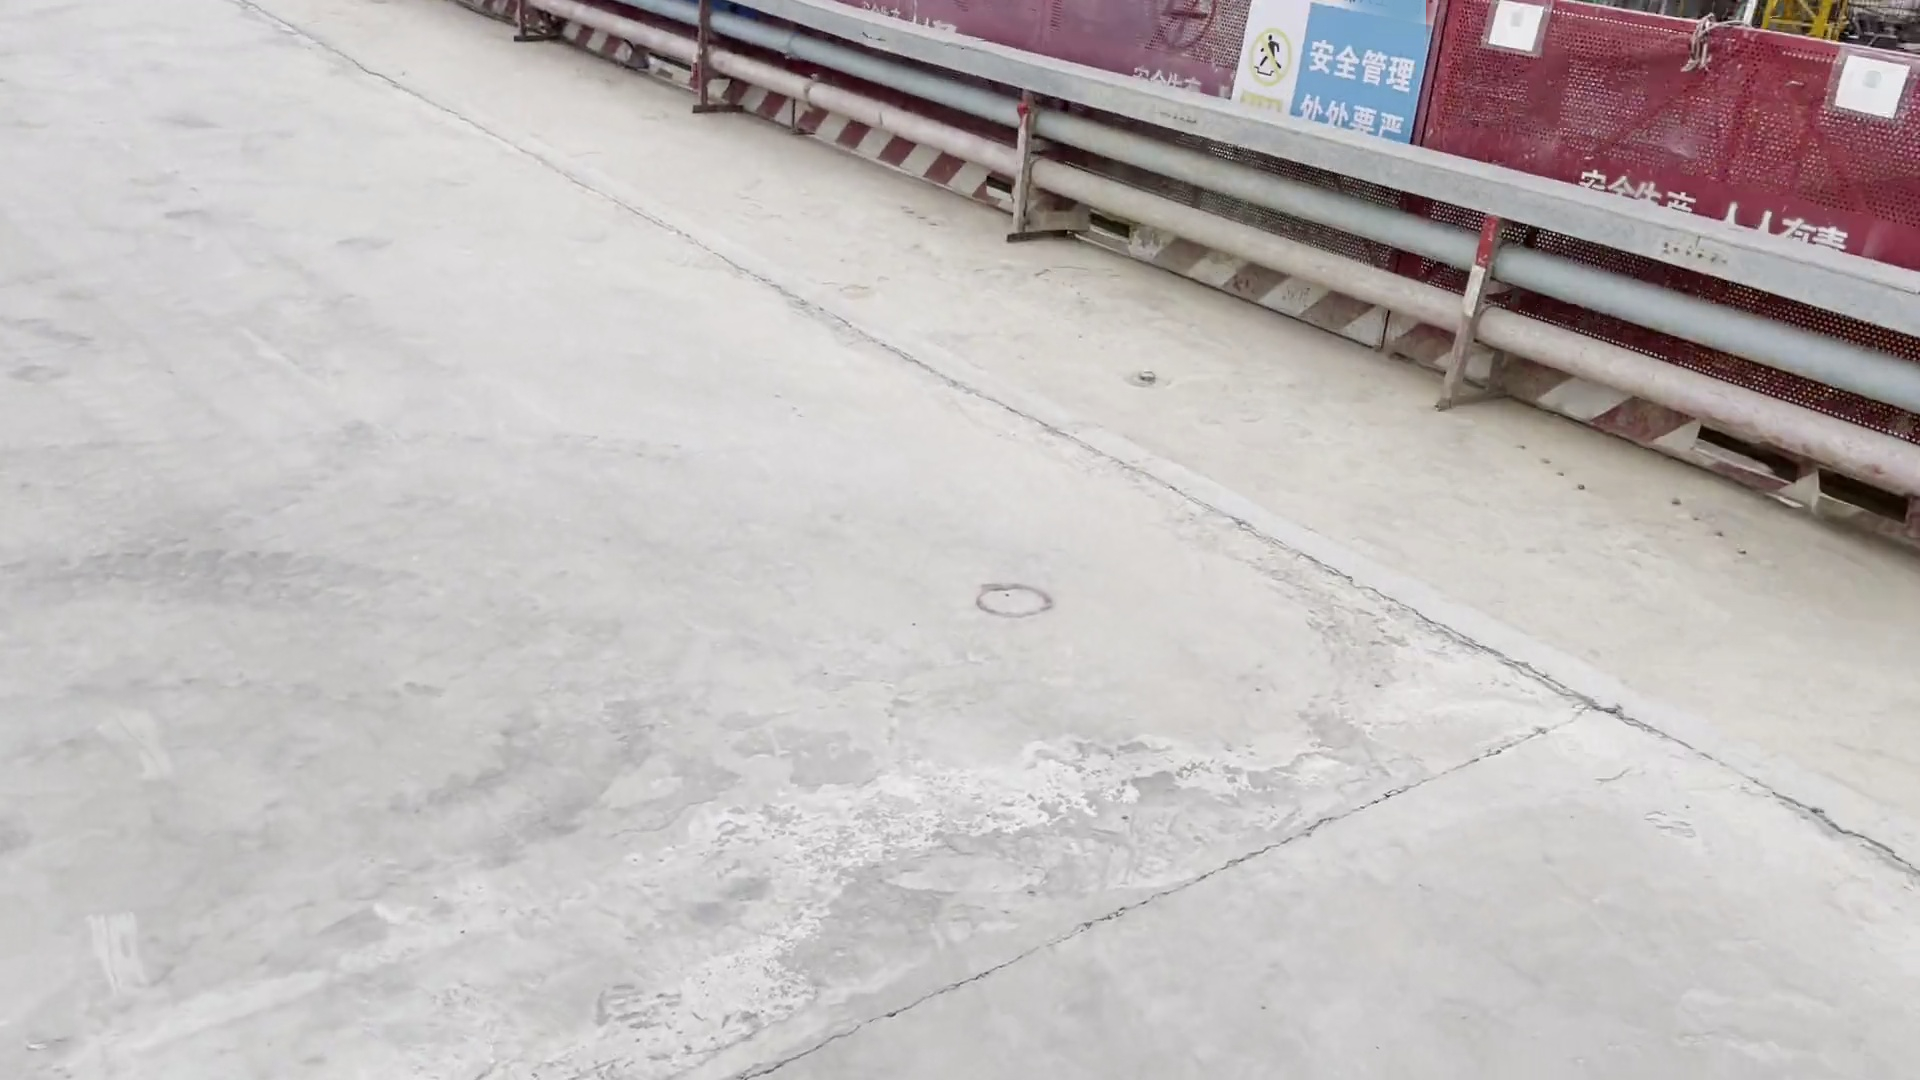fence: (856, 1, 1920, 295)
slogan: (1215, 4, 1462, 158), (1833, 40, 1909, 142), (1476, 3, 1553, 76)
